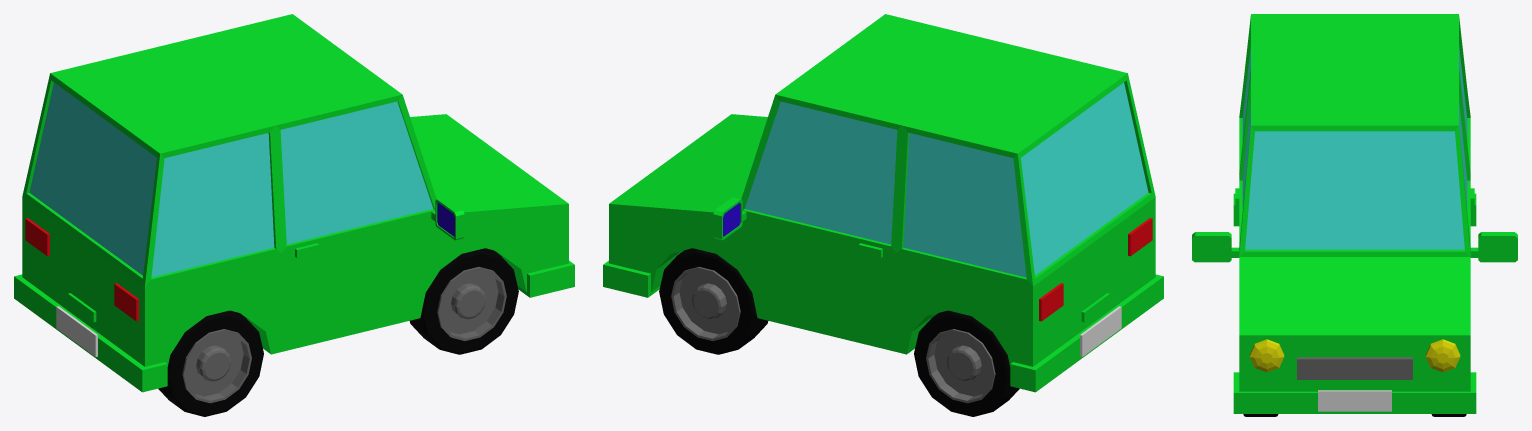
File: 1car.fbx
3 views of the same model, side by side, from view 1: azimuth 30°, elevation 25°; view 2: azimuth 150°, elevation 25°; view 3: azimuth 270°, elevation 25° (orthographic). The views are drawn at different scales.
Parts seen in each view (by area): view 1: Plane; view 2: Plane; view 3: Plane.
Part boxes in pixels (x1,y1,x2,y2): Plane: (14,14,574,416); Plane: (603,14,1163,416); Plane: (1192,14,1517,416).
Bounding box in the file's own units: 414 × 244 × 281.
